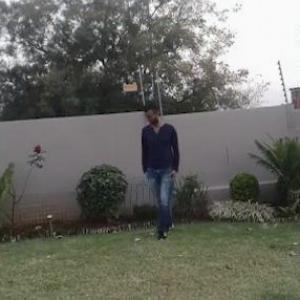follow: (130, 94, 179, 248)
